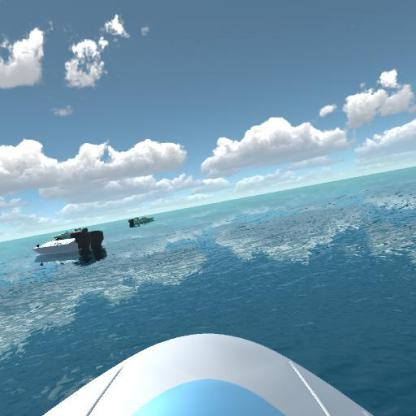usv0: (124, 211, 154, 228), (51, 227, 83, 241)
usv1: (30, 228, 104, 260)
